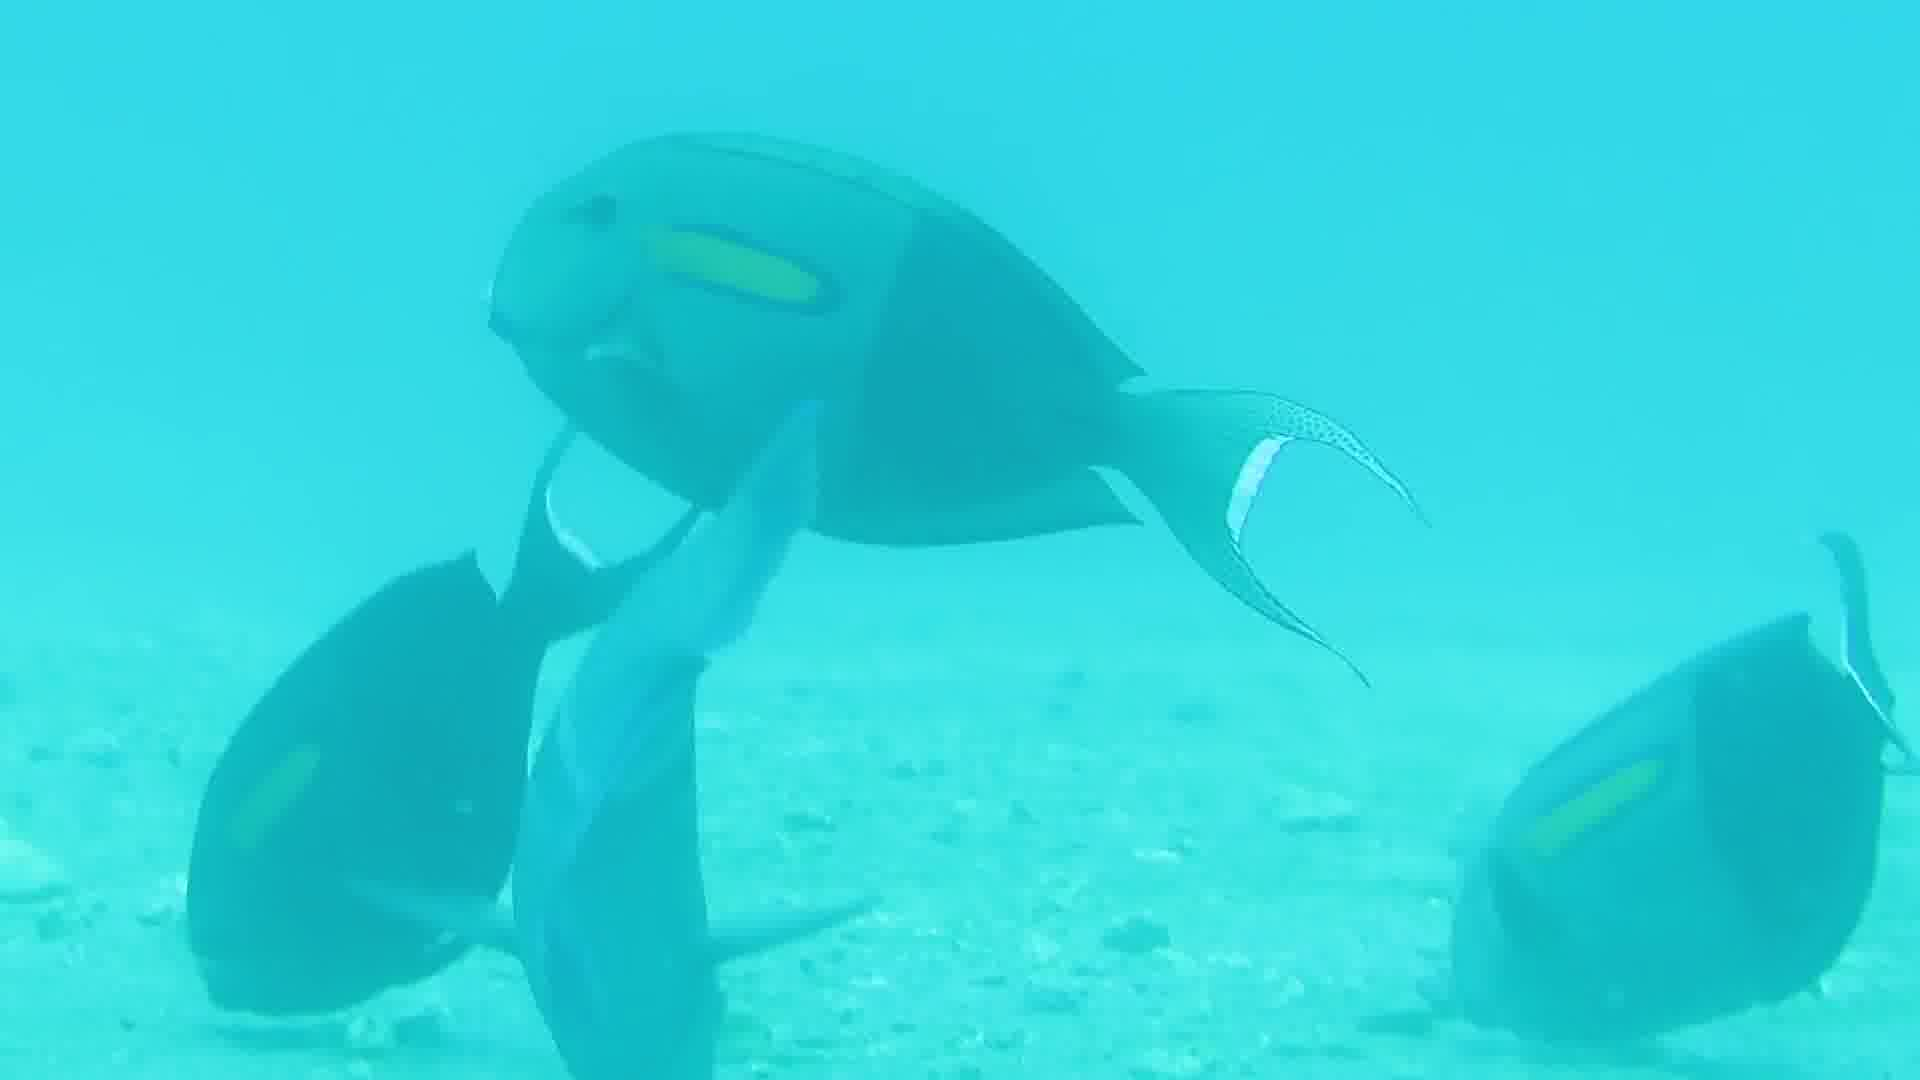Acanthurus olivaceus: (473, 100, 1503, 541), (42, 527, 522, 1042), (1427, 549, 1907, 1063), (526, 396, 827, 1080)
